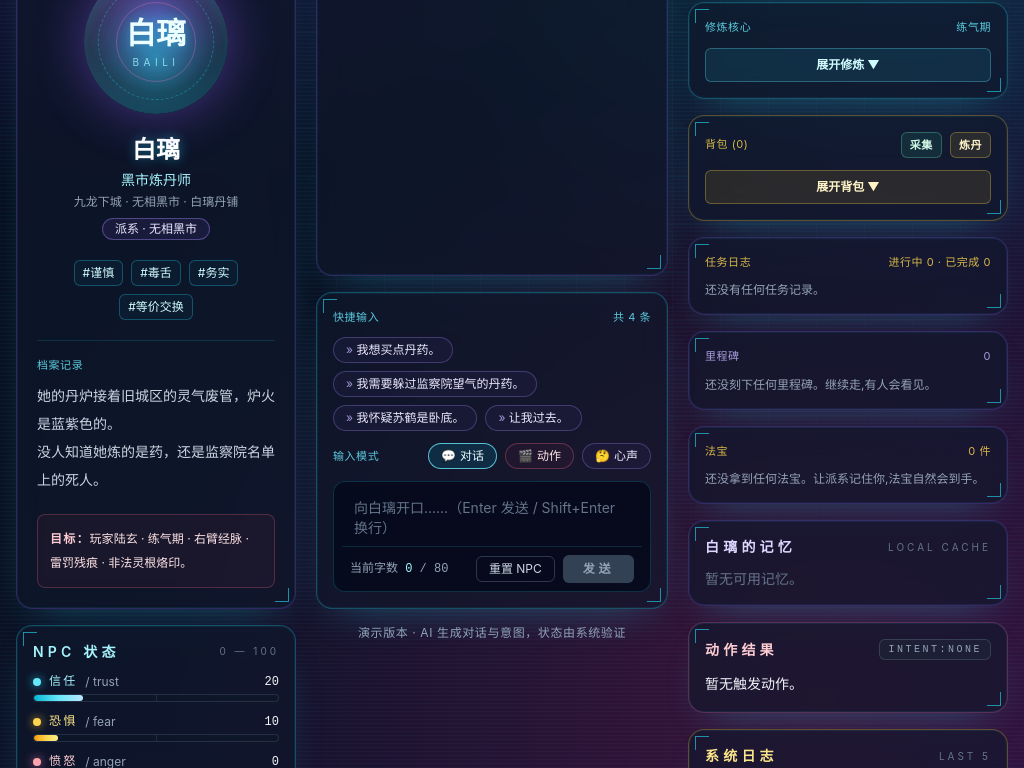
Test: App › fills a quick prompt and renders the chat response
The width and height of the screenshot is (1024, 768).
(page scrolled)
Click the button "» 我需要躲过监察院望气的丹药。".
click(435, 384)  # box [333,371,537,397]
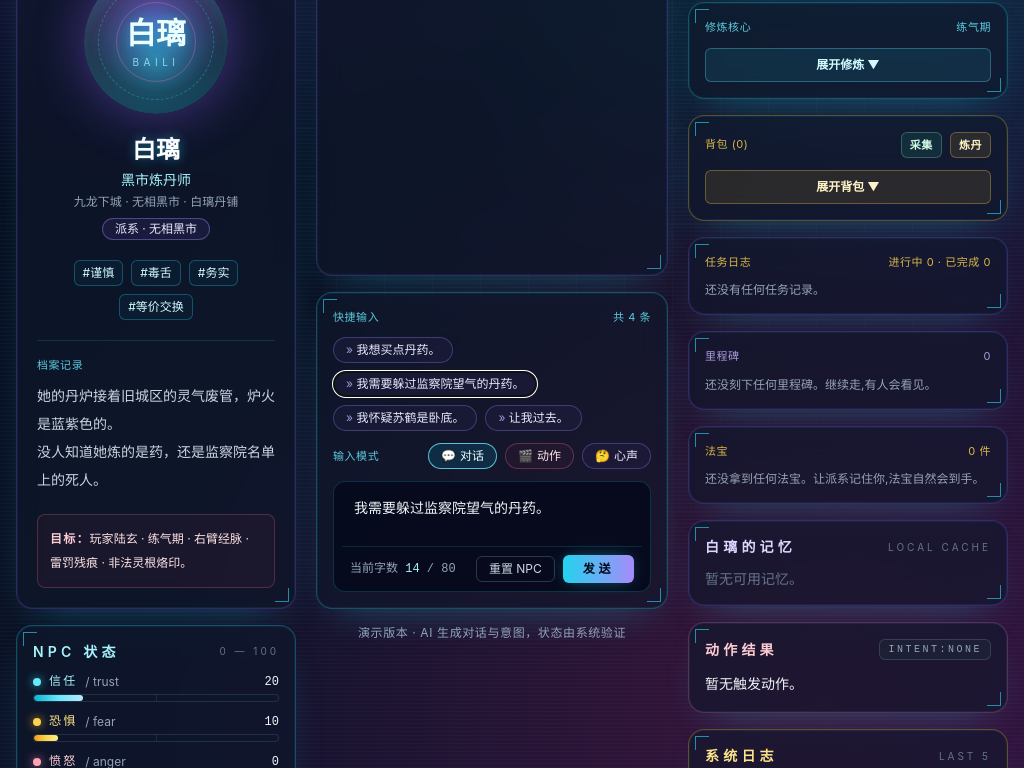
Click the button "发送".
click(598, 569)  # box [563,555,634,583]
(page scrolled)
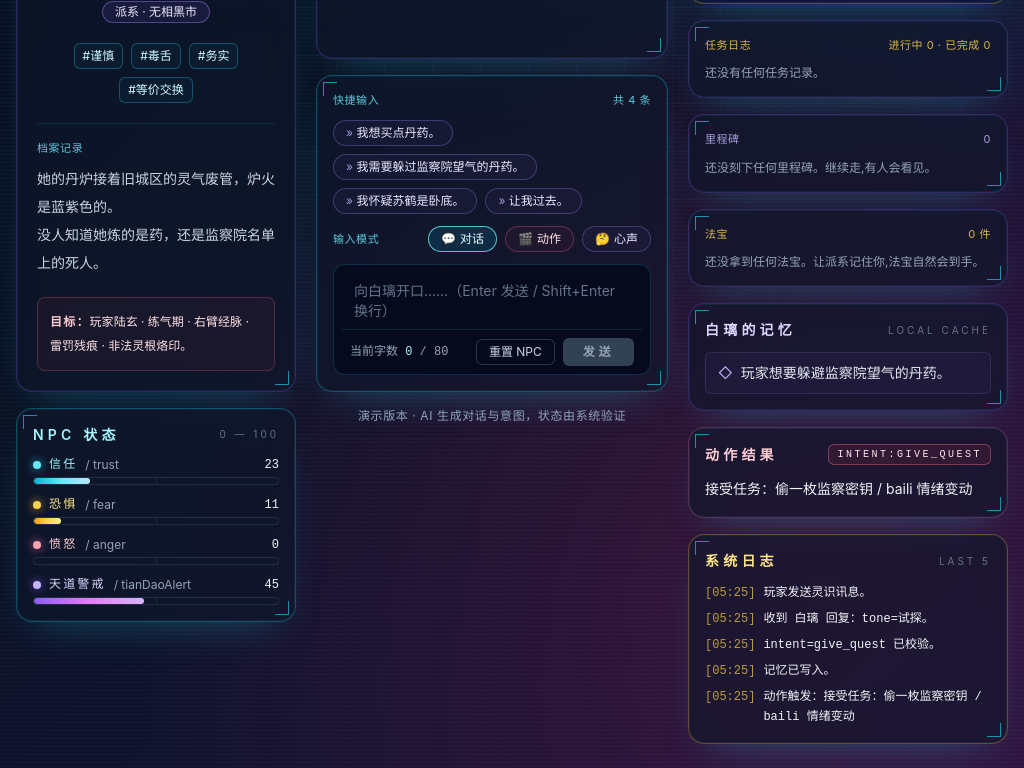
Expected: the text "玩家想要躲避监察院望气的丹药。" is shown, [741,361,978,385]
Expected: the text "接受任务：偷一枚监察密钥 / baili 情绪变动" is shown, [705,477,991,501]
